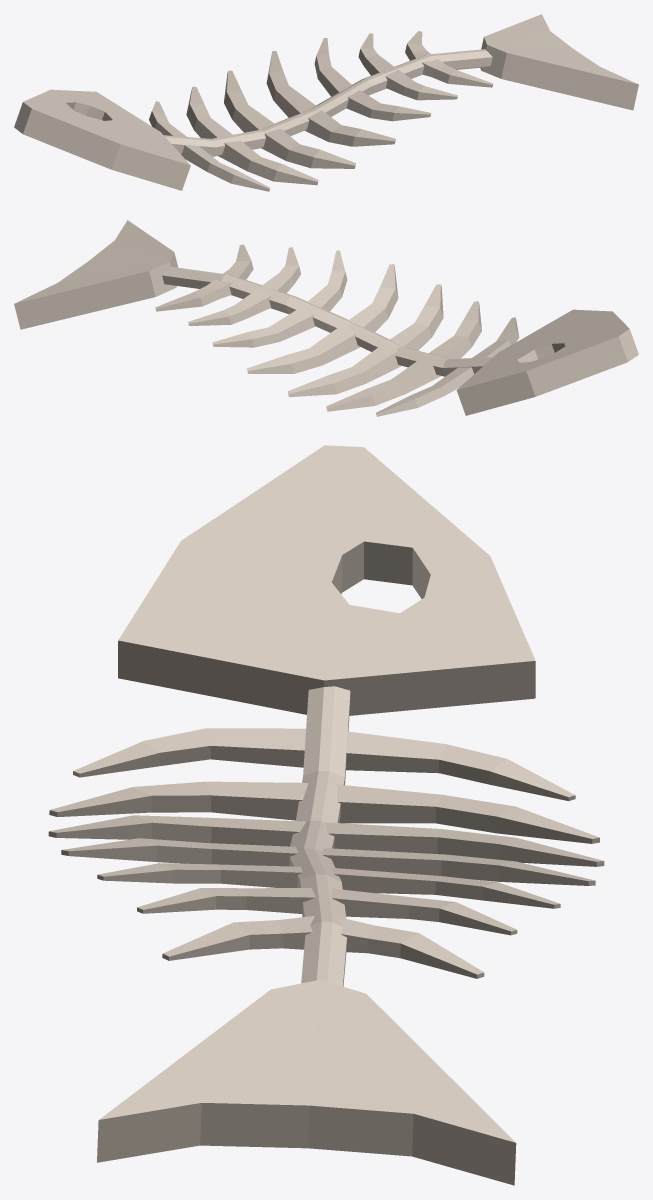
Rendered from fish_bone.glb.
3 views of the same model, one above another, from view 1: azimuth 30°, elevation 25°; view 2: azimuth 150°, elevation 25°; view 3: azimuth 270°, elevation 25° (orthographic). The views are drawn at different scales.
Visible parts, largest first — view 1: FishBone; view 2: FishBone; view 3: FishBone.
Part boxes in pixels (x1,y1,x2,y2): FishBone: (14,14,638,191); FishBone: (14,220,638,416); FishBone: (48,445,604,1185).
Size of the model in its own units: 5.53 by 0.9407 by 2.35.
